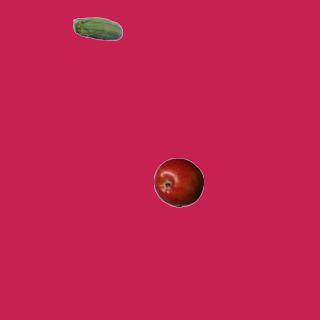Apple Braeburn: (153, 157, 203, 207)
Corn Husk: (72, 5, 122, 55)
